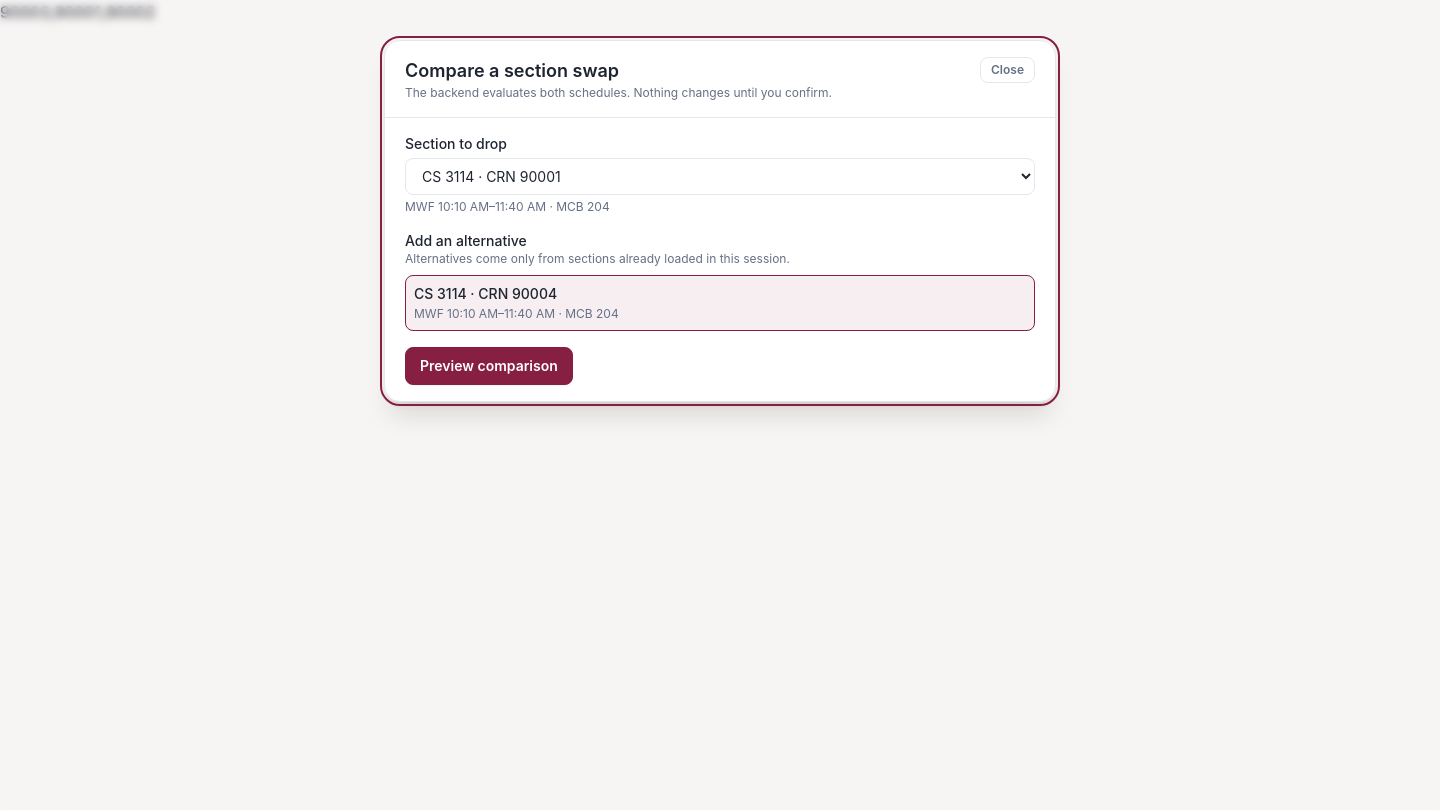
Test: SwapWorkbench › describes a zero delta as no score change in text
Click the button with test id "swap-preview" at (489, 366), box [405,347,573,385]
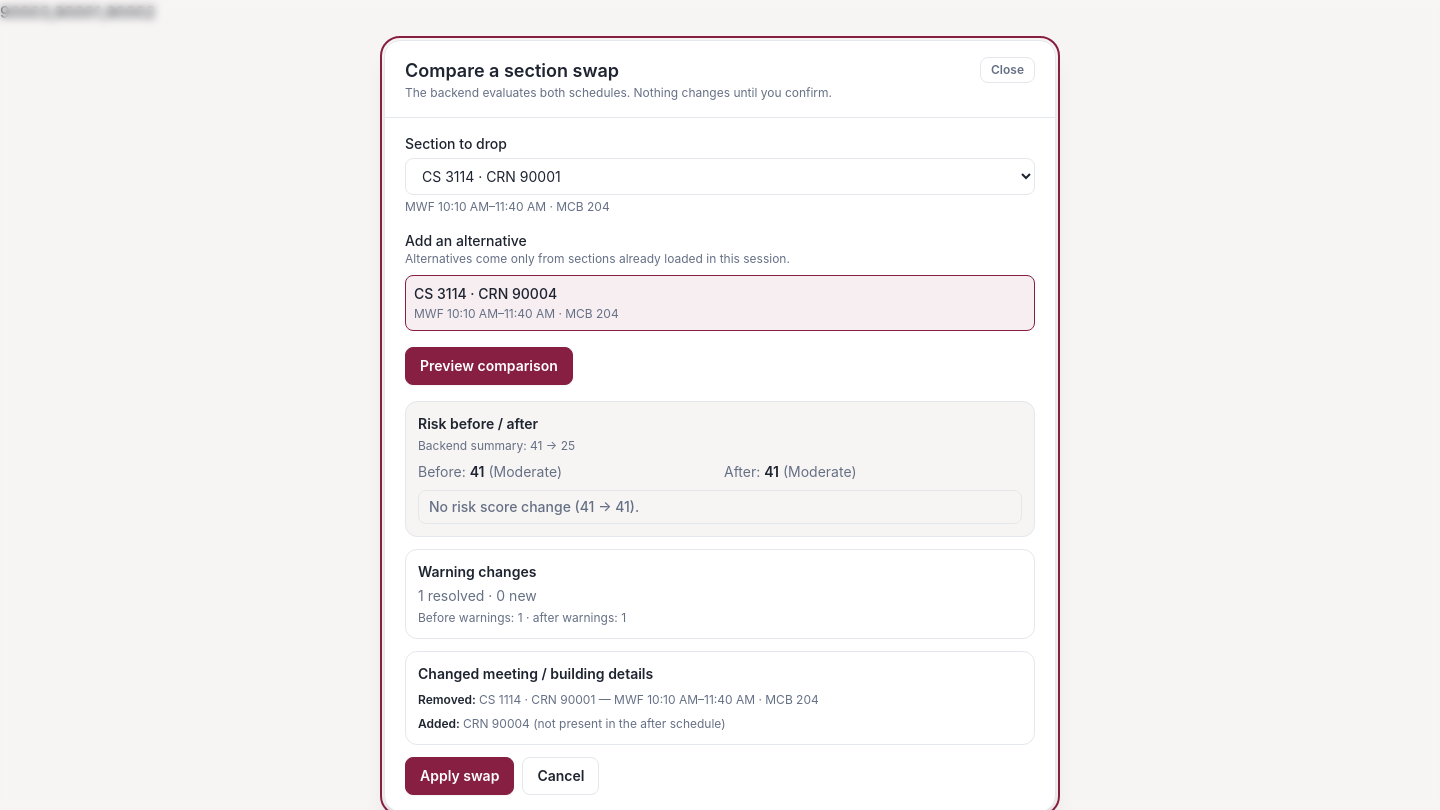
Expected: the text with test id "swap-delta" reads "No risk score change (41 → 41).", [429,498,639,515]
